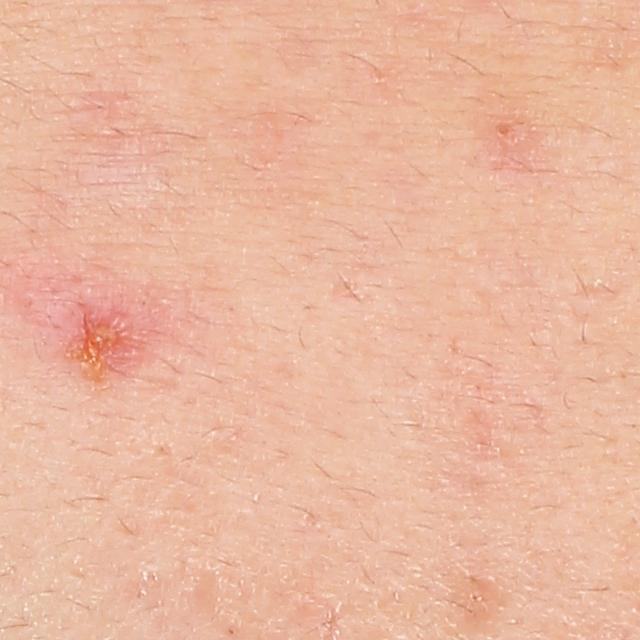papule: (58, 298, 139, 379), (489, 119, 522, 153)
